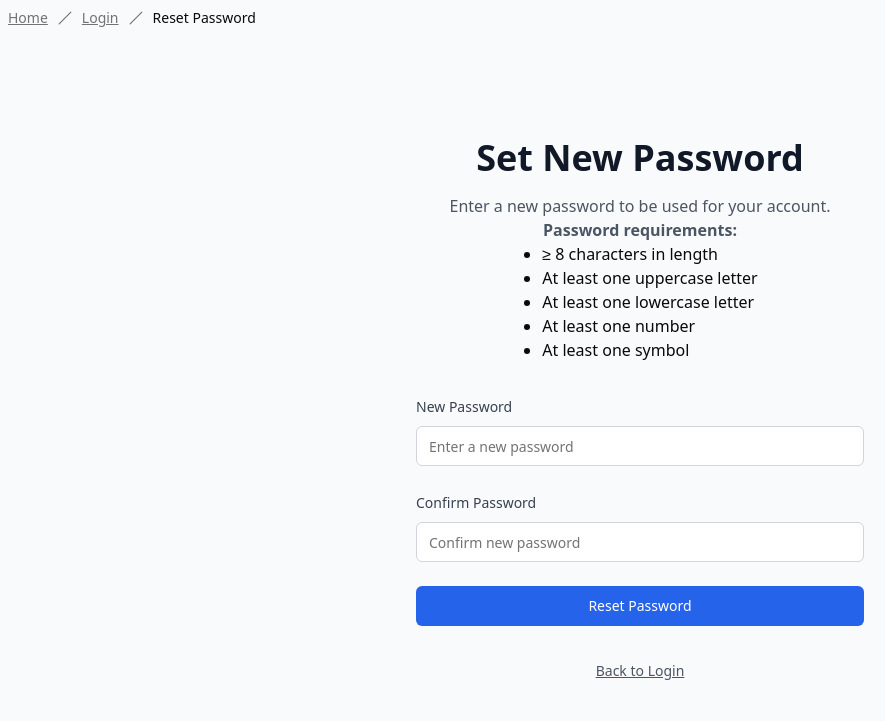
Reset Password › displays error message when password does not satisfy requirements
Type "Spaghetti1" into the password field labelled "New Password".
click(640, 446); type("Spaghetti1")  # box [416,426,864,466]
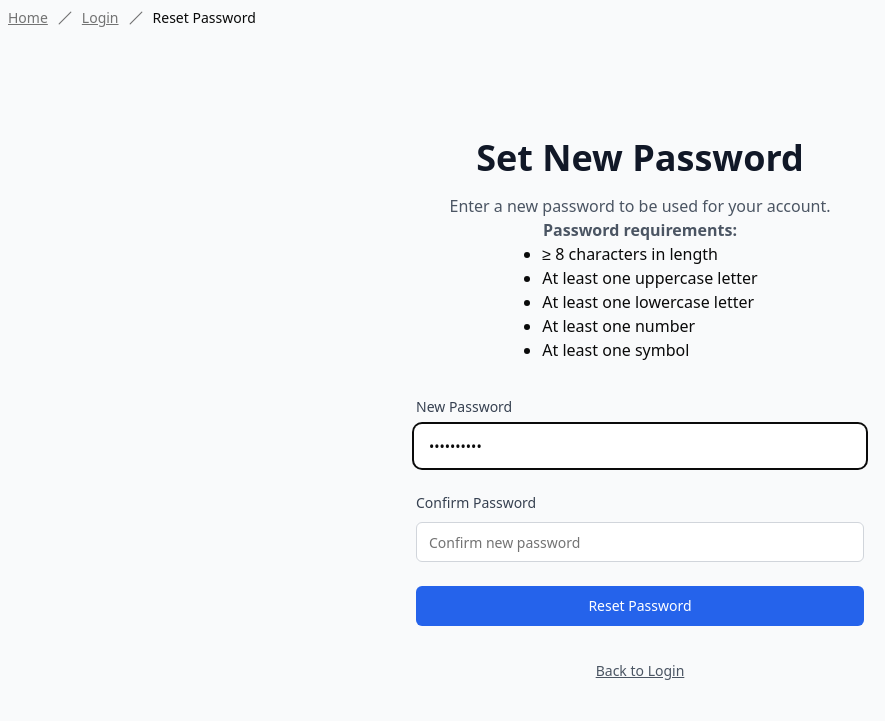
Type "Spaghetti1" into the password field labelled "Confirm Password".
click(640, 542); type("Spaghetti1")  # box [416,522,864,562]
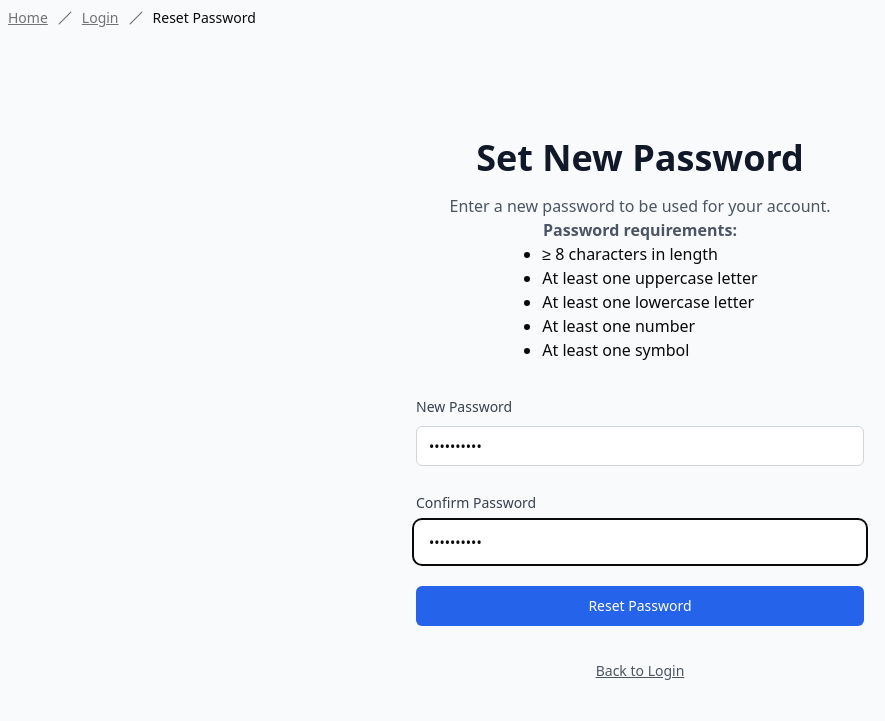
Note: Click "reset passsword" button
Click the button "Reset Password".
click(640, 606)  # box [416,586,864,626]
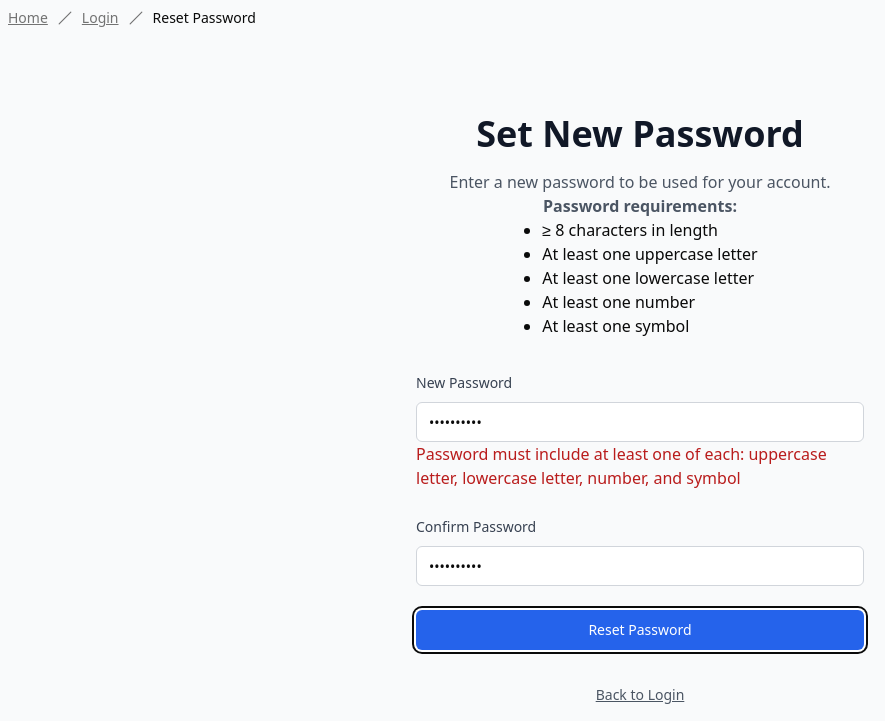
Expected: the message is shown, [416,443,827,489]
